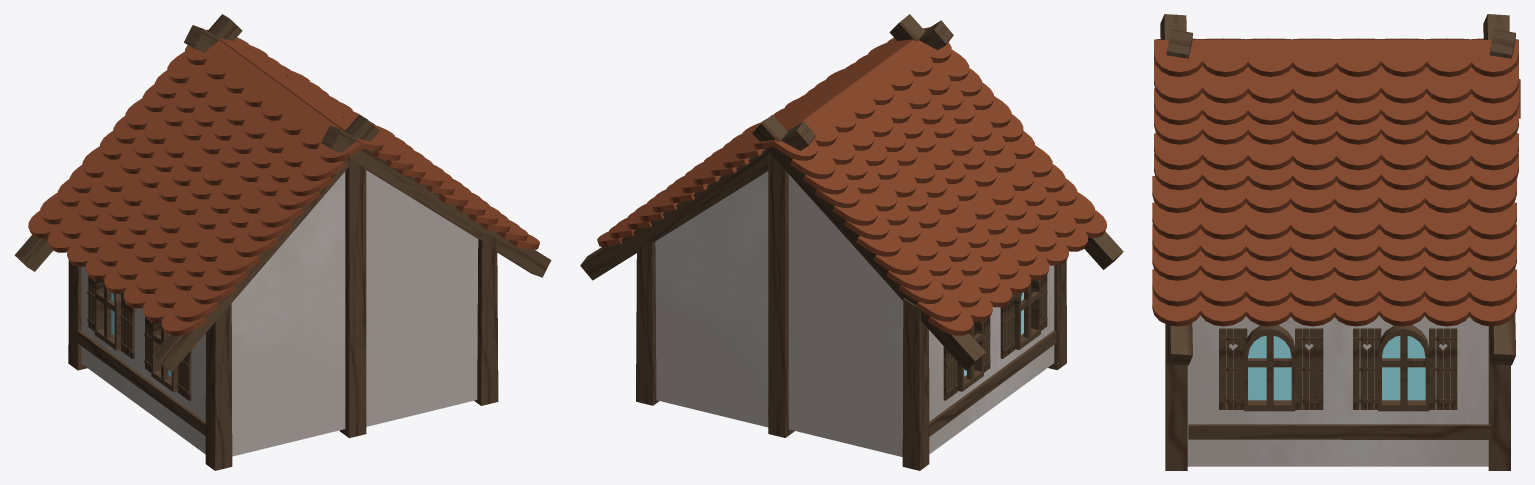
Rendered from House3.fbx.
3 renders of one model, left to right at view 1: azimuth 30°, elevation 25°; view 2: azimuth 150°, elevation 25°; view 3: azimuth 270°, elevation 25°, orthographic. The views are drawn at different scales.
Parts seen in each view (by area): view 1: polySurface1311; view 2: polySurface1311; view 3: polySurface1311.
Part boxes in pixels (x1,y1,x2,y2): polySurface1311: (14, 14, 551, 470); polySurface1311: (580, 14, 1123, 470); polySurface1311: (1152, 14, 1520, 470).
Bounding box in the file's own units: 1.86 × 1.41 × 1.28.
